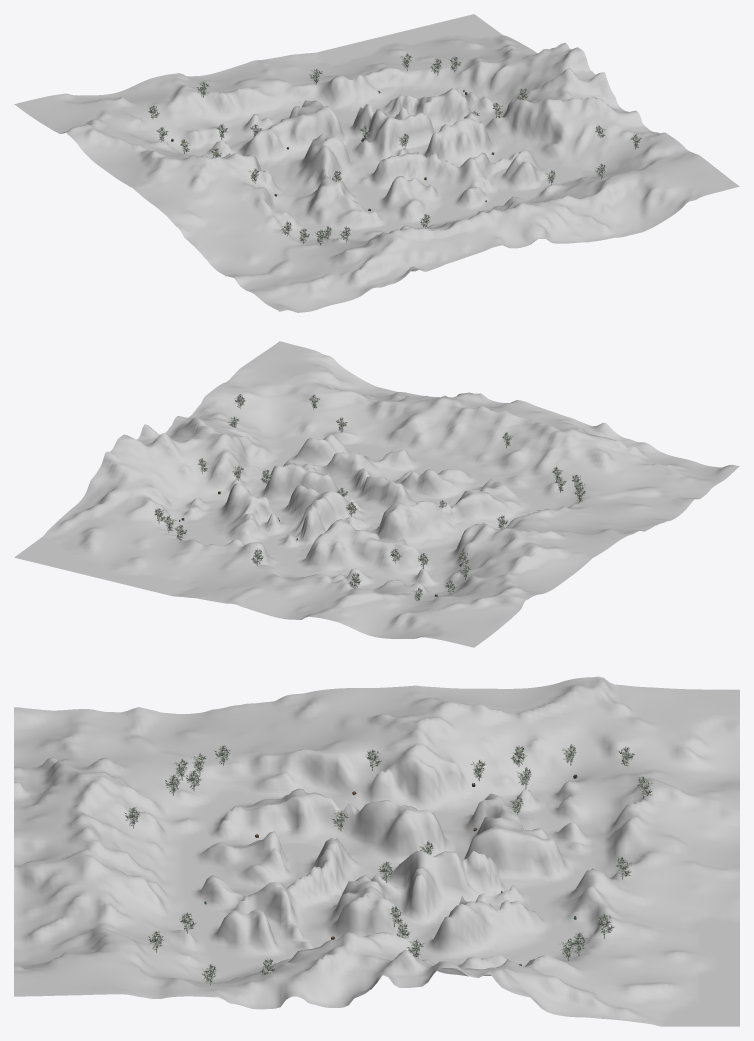
File: IcePlanetMap.fbx
The picture shows the model from 3 angles, top to bottom: view 1: azimuth 30°, elevation 25°; view 2: azimuth 150°, elevation 25°; view 3: azimuth 270°, elevation 25°; orthographic projection. The views are drawn at different scales.
Parts seen in each view (by area): view 1: IcePlanetMesh; view 2: IcePlanetMesh; view 3: IcePlanetMesh.
Part boxes in pixels (bbox=[...]): IcePlanetMesh: bbox=[14, 14, 739, 312]; IcePlanetMesh: bbox=[14, 341, 739, 647]; IcePlanetMesh: bbox=[14, 676, 739, 1026].
Bounding box in the file's own units: 25000 × 2245 × 25000.
